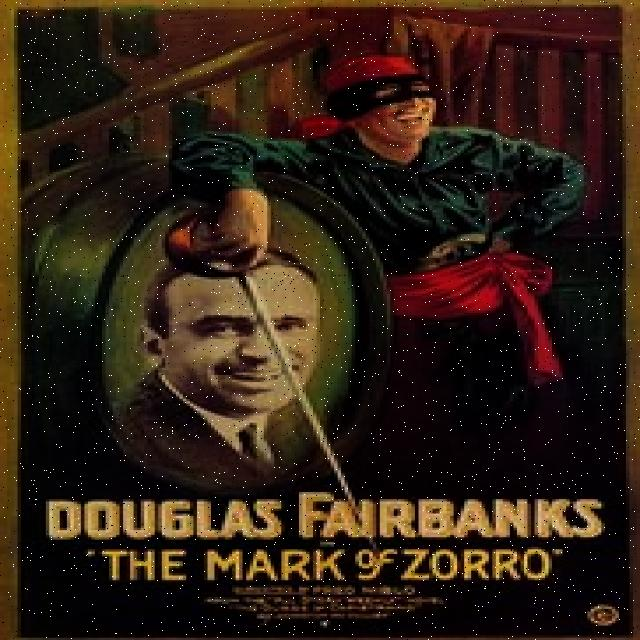movie-judul: (40, 493, 602, 583)
picture: (41, 66, 592, 477)
